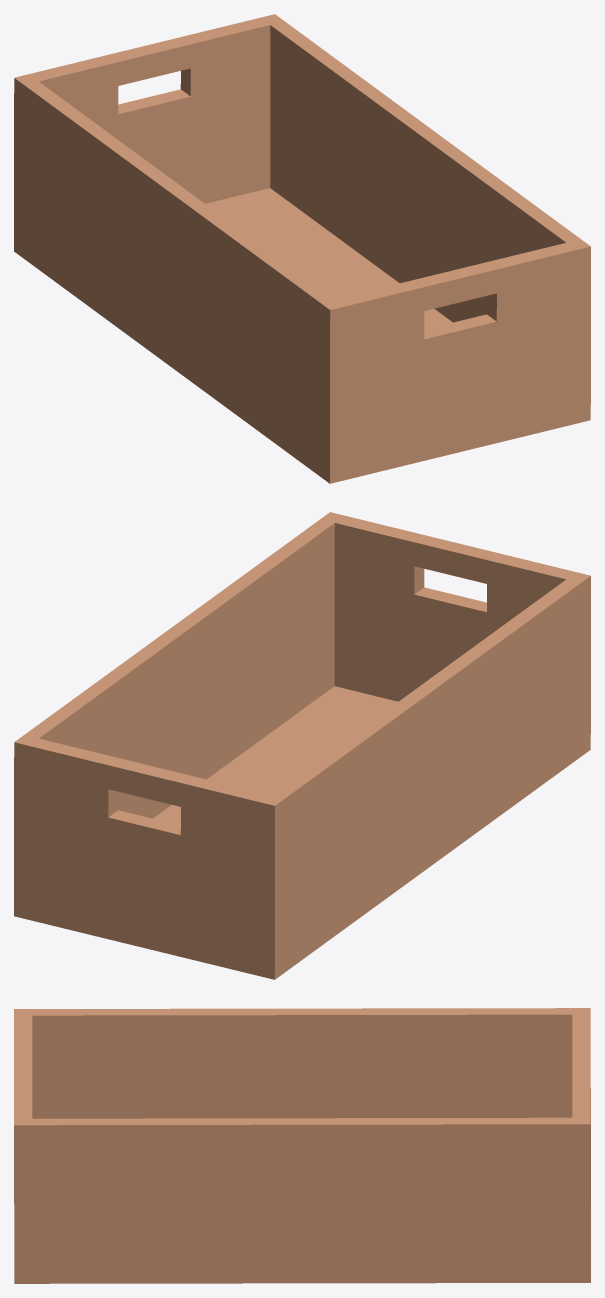
The picture shows the model from 3 angles, top to bottom: view 1: azimuth 30°, elevation 25°; view 2: azimuth 150°, elevation 25°; view 3: azimuth 270°, elevation 25°; orthographic projection. The views are drawn at different scales.
Parts seen in each view (by area): view 1: Box.001, Box.003, Box.002, Box.004, Box; view 2: Box.001, Box.004, Box.002, Box.003, Box; view 3: Box.002, Box.001, Box.004, Box.003.
Boxes of the visible parts, x1,y1,x2,y2 form: Box.001: (14,78,334,483); Box.003: (330,242,590,483); Box.002: (270,14,590,322); Box.004: (15,14,274,203); Box: (205,188,452,329); Box.001: (270,575,590,979); Box.004: (14,738,274,979); Box.002: (14,512,334,818); Box.003: (330,512,589,701); Box: (153,686,397,825); Box.002: (14,1117,590,1283); Box.001: (14,1008,589,1118); Box.004: (572,1008,590,1203); Box.003: (14,1009,32,1124).
Size of the model in its own units: 209 by 134 by 440.
